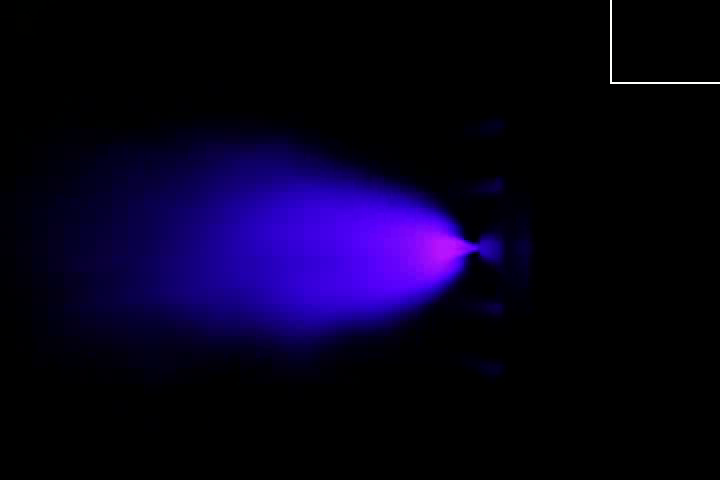burner cap: (479, 230, 508, 266)
stable: (380, 199, 479, 298)
